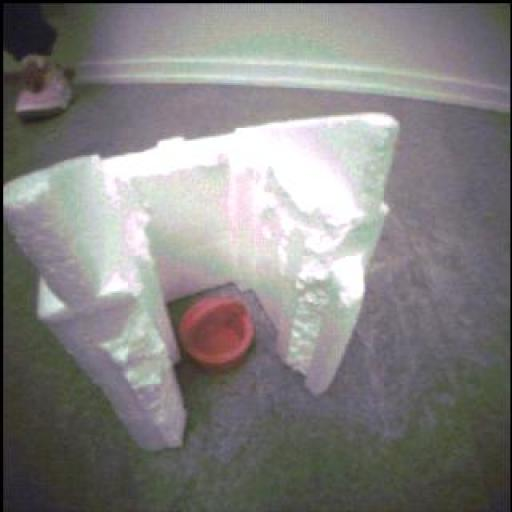Bucket: (172, 298, 266, 369)
